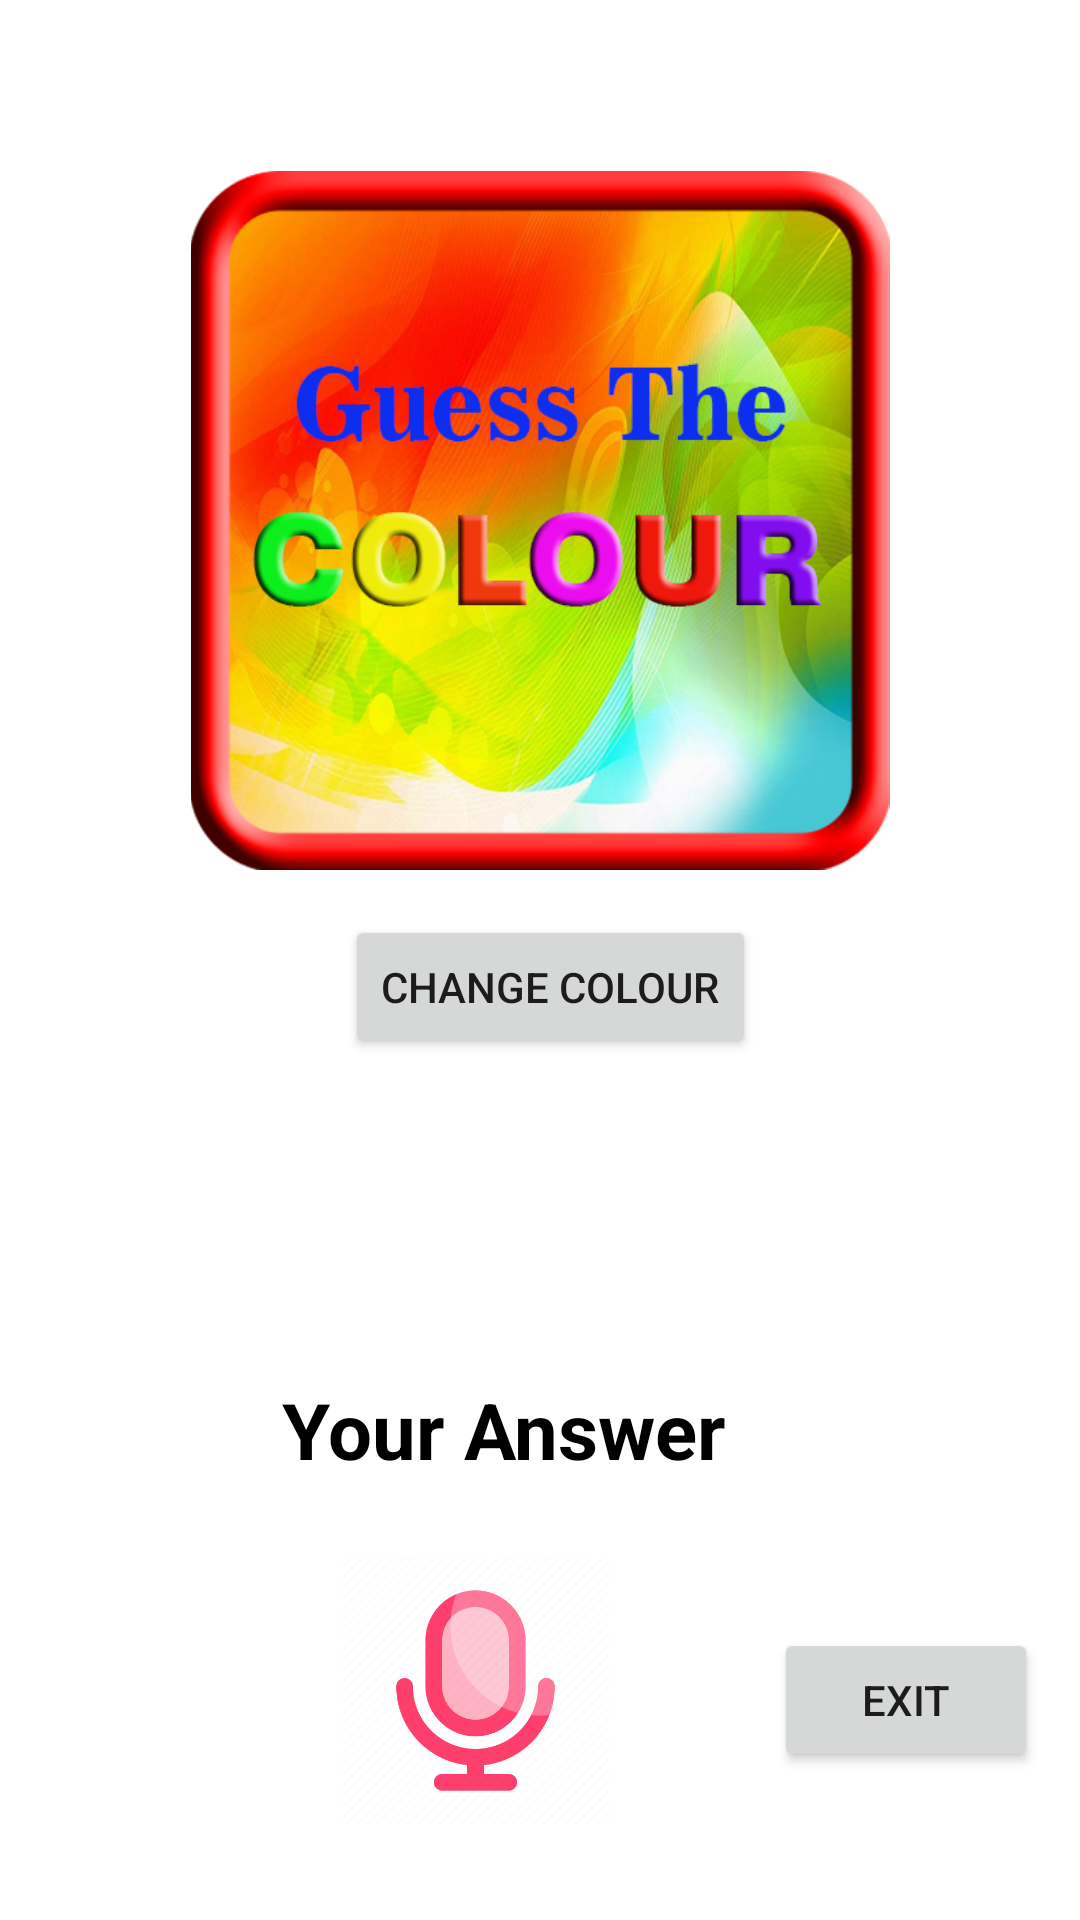

Screen size 1080x1920. Icon name, then its box in pixels as [x1, y1, x2, y2]:
mic: [396, 1590, 555, 1791]
